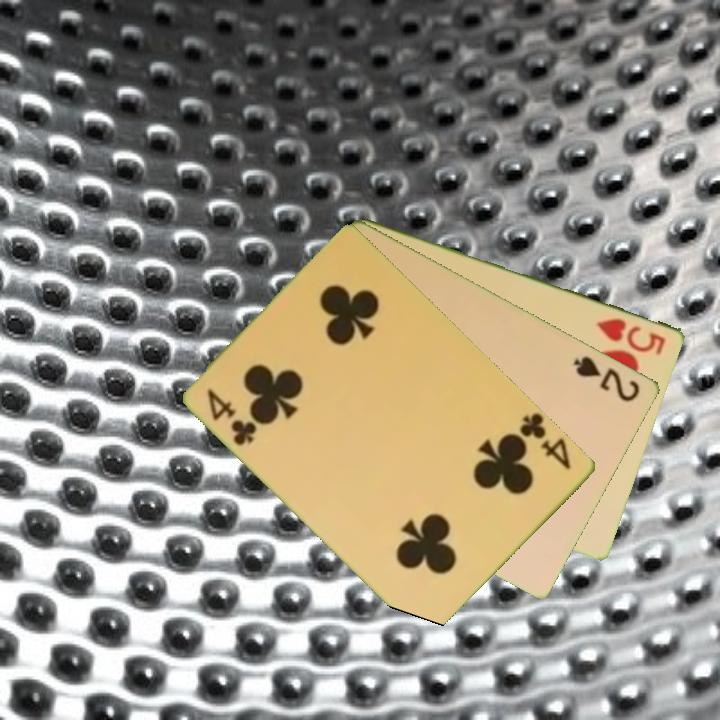2s: (570, 352, 644, 405)
4c: (516, 409, 575, 473), (203, 385, 261, 449)
5h: (594, 314, 669, 358)
